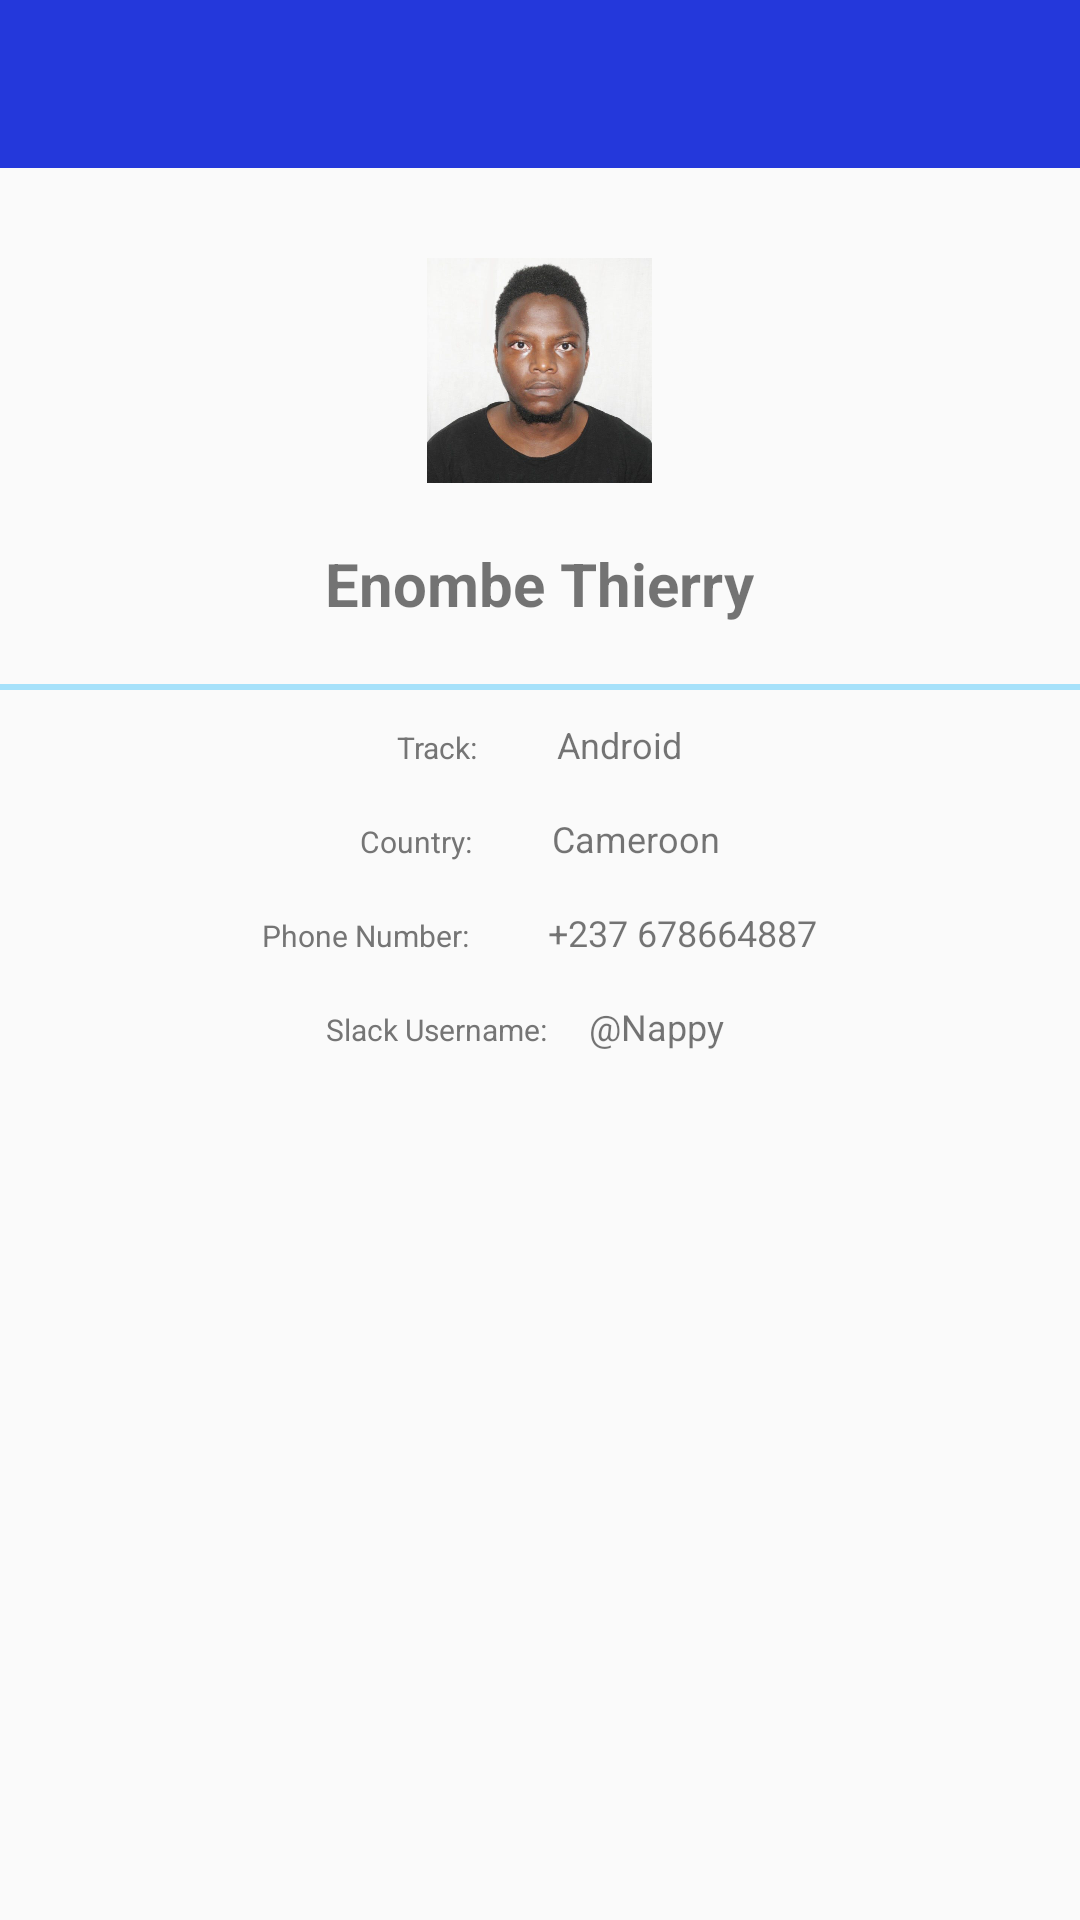

Icons on this 1080px x 1920px Android screen, each with the point to tap as (x=x, y=y):
myself: (x=539, y=373)
